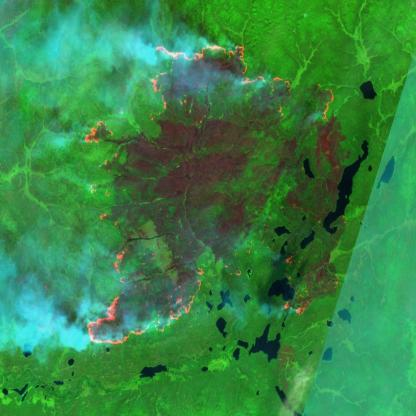fire: (82, 35, 334, 350)
